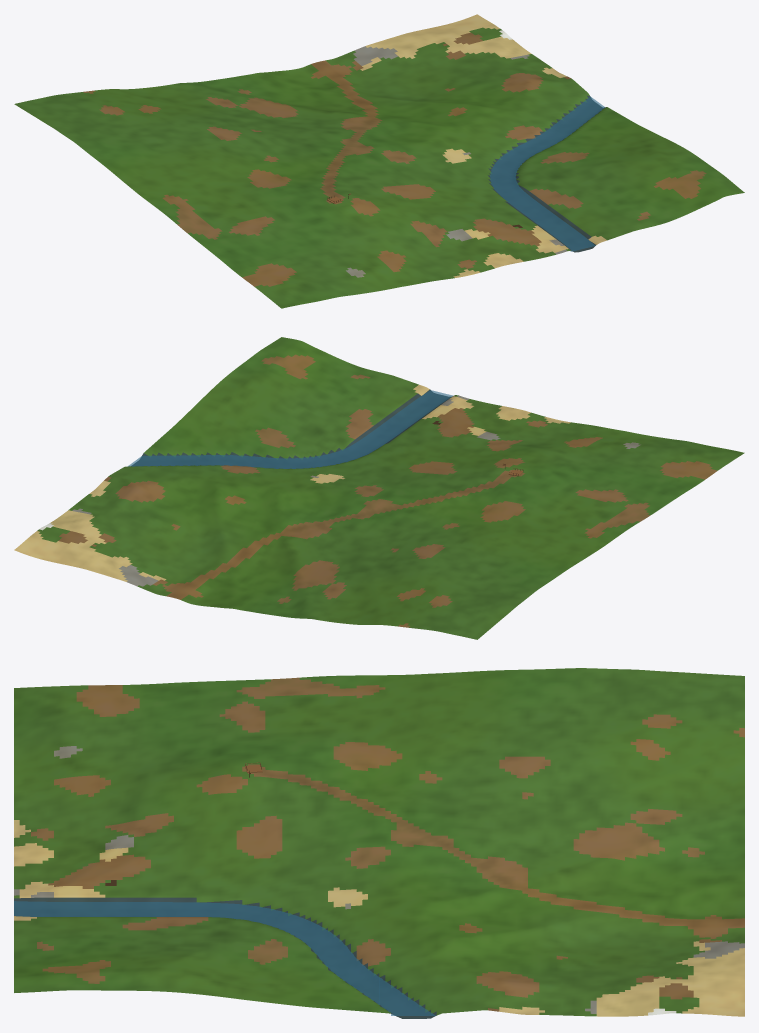
File: chunk_4_5.glb
3 renders of one model, top to bottom at view 1: azimuth 30°, elevation 25°; view 2: azimuth 150°, elevation 25°; view 3: azimuth 270°, elevation 25°, orthographic. The views are drawn at different scales.
Parts seen in each view (by area): view 1: Surface_Grass, Surface_Dirt, Surface_Water, Surface_Sand, Water, Surface_Gravel; view 2: Surface_Grass, Surface_Dirt, Surface_Sand, Surface_Water, Water, Surface_Gravel; view 3: Surface_Grass, Surface_Dirt, Surface_Water, Surface_Sand, Water, Surface_Gravel.
Part boxes in pixels (x1,y1,x2,y2): Surface_Grass: [14, 27, 744, 308]; Surface_Dirt: [83, 32, 706, 286]; Surface_Water: [488, 95, 605, 252]; Surface_Sand: [360, 14, 606, 277]; Water: [490, 96, 604, 251]; Surface_Gravel: [346, 46, 566, 277]; Surface_Grass: [37, 337, 744, 639]; Surface_Dirt: [58, 354, 717, 627]; Surface_Sand: [14, 384, 570, 581]; Surface_Water: [132, 389, 452, 468]; Water: [128, 390, 452, 468]; Surface_Gravel: [72, 395, 640, 586]; Surface_Grass: [14, 668, 744, 1016]; Surface_Dirt: [31, 677, 744, 1011]; Surface_Water: [14, 897, 436, 1018]; Surface_Sand: [14, 820, 744, 1016]; Water: [14, 901, 435, 1015]; Surface_Gravel: [14, 746, 744, 1013].
Bounding box in the file's own units: 256 × 21.74 × 256.
